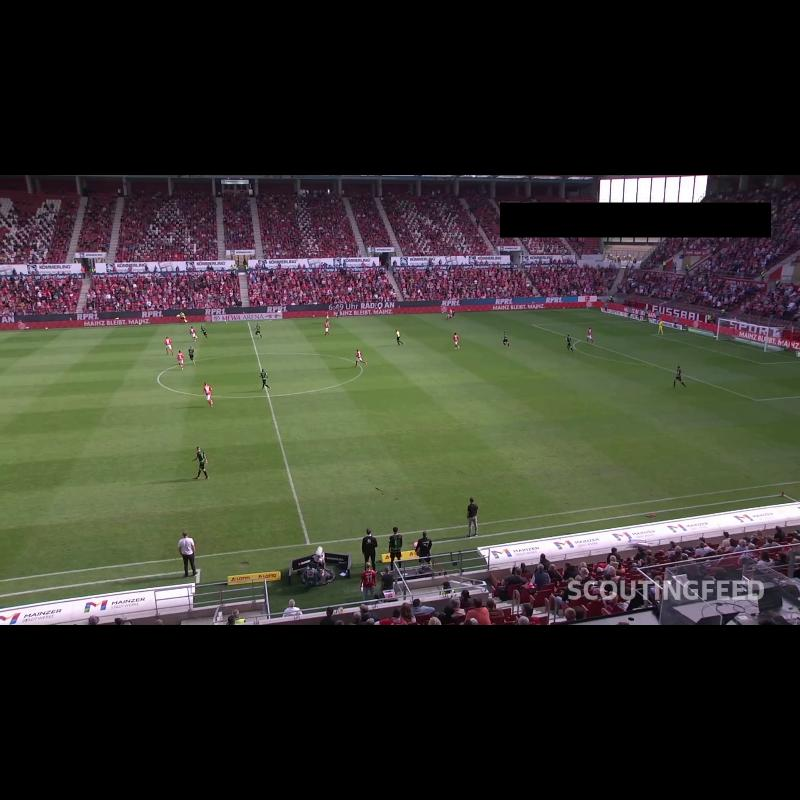cross_recipient_zone: (533, 321, 800, 400)
crossing_player_zone: (654, 396, 800, 482), (438, 310, 633, 327), (0, 332, 38, 349)
pitch: (0, 310, 800, 581)
